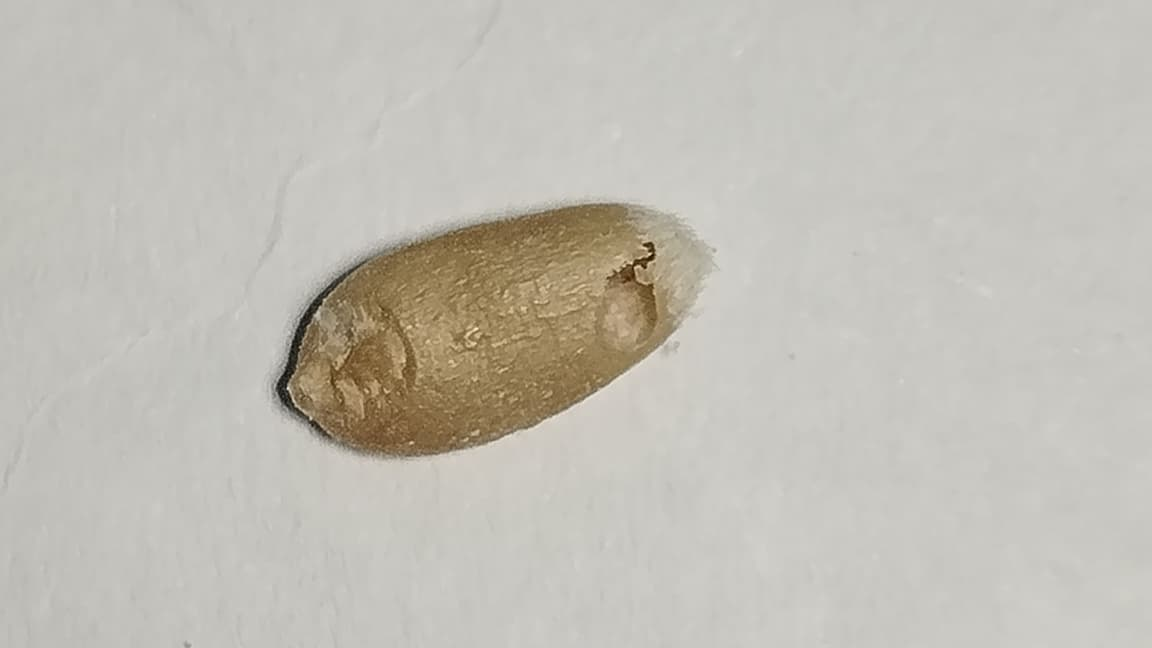damage: (277, 200, 717, 461)
insectdamage: (549, 235, 696, 357), (308, 299, 416, 438)
